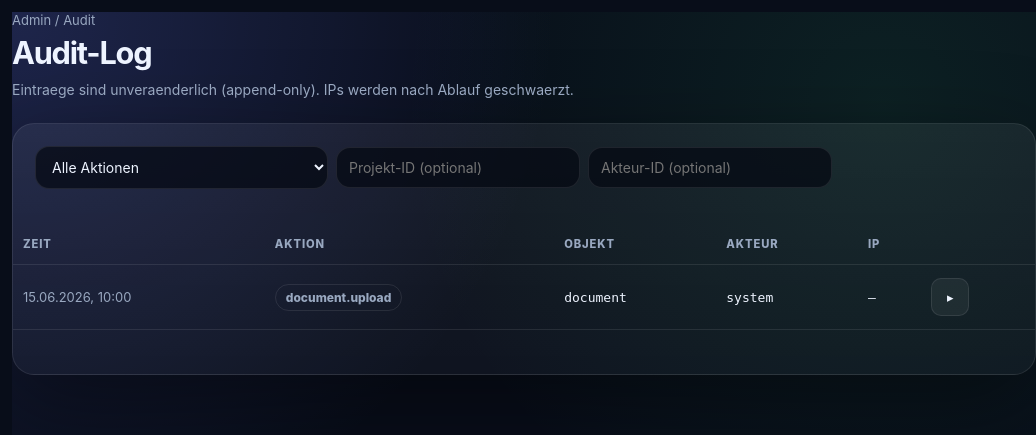
AuditLogsPage Metadaten (A3) › zeigt 'Keine Details' wenn metadata null ist
The width and height of the screenshot is (1036, 435).
Click the button named "Details anzeigen".
click(950, 298)  # box [931, 278, 969, 316]
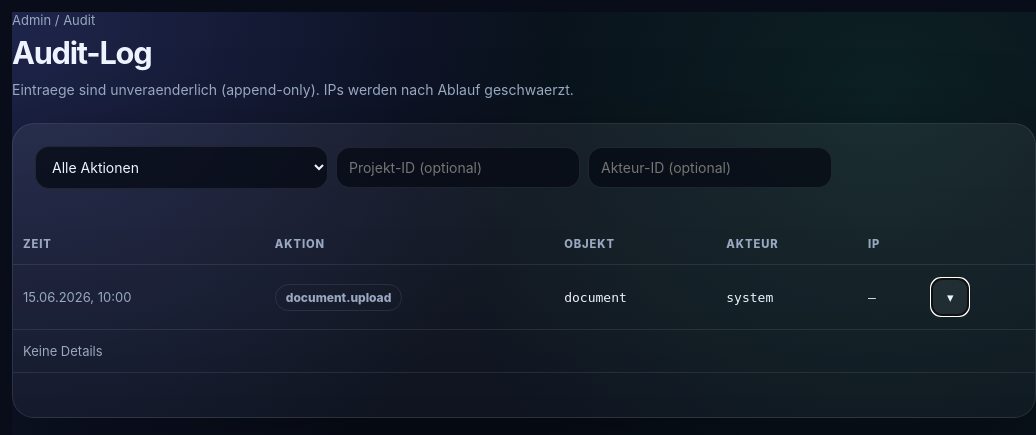
Expected: the text "Keine Details" is shown, [23, 344, 103, 360]
